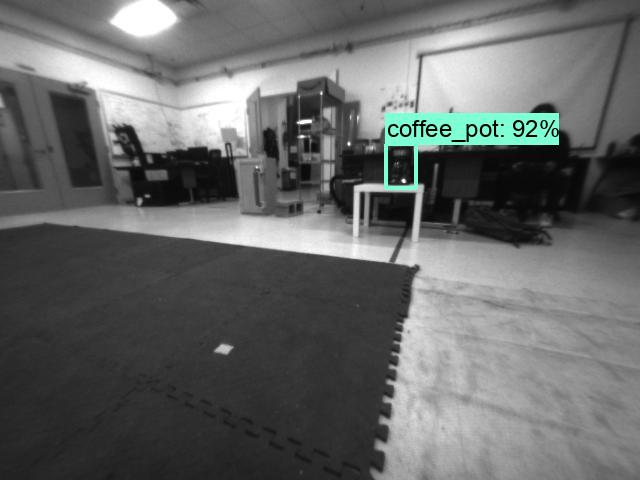coffee_pot: (387, 144, 414, 187)
